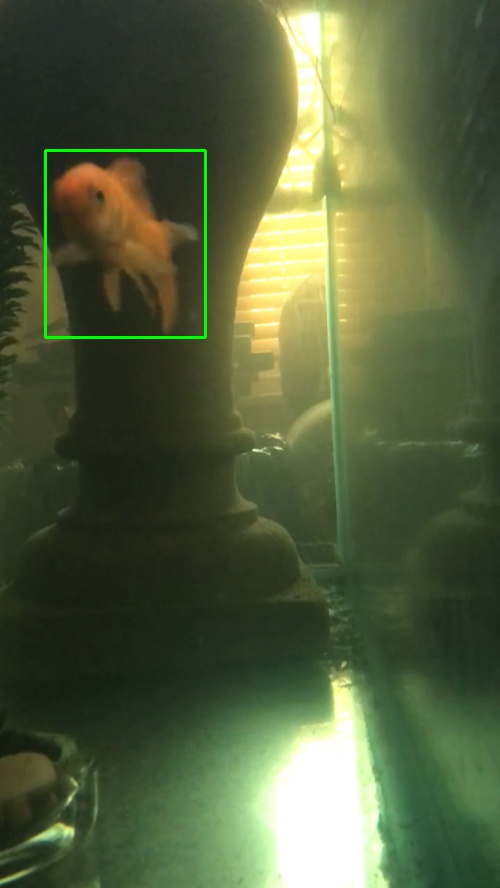goldfish: (45, 151, 204, 338)
